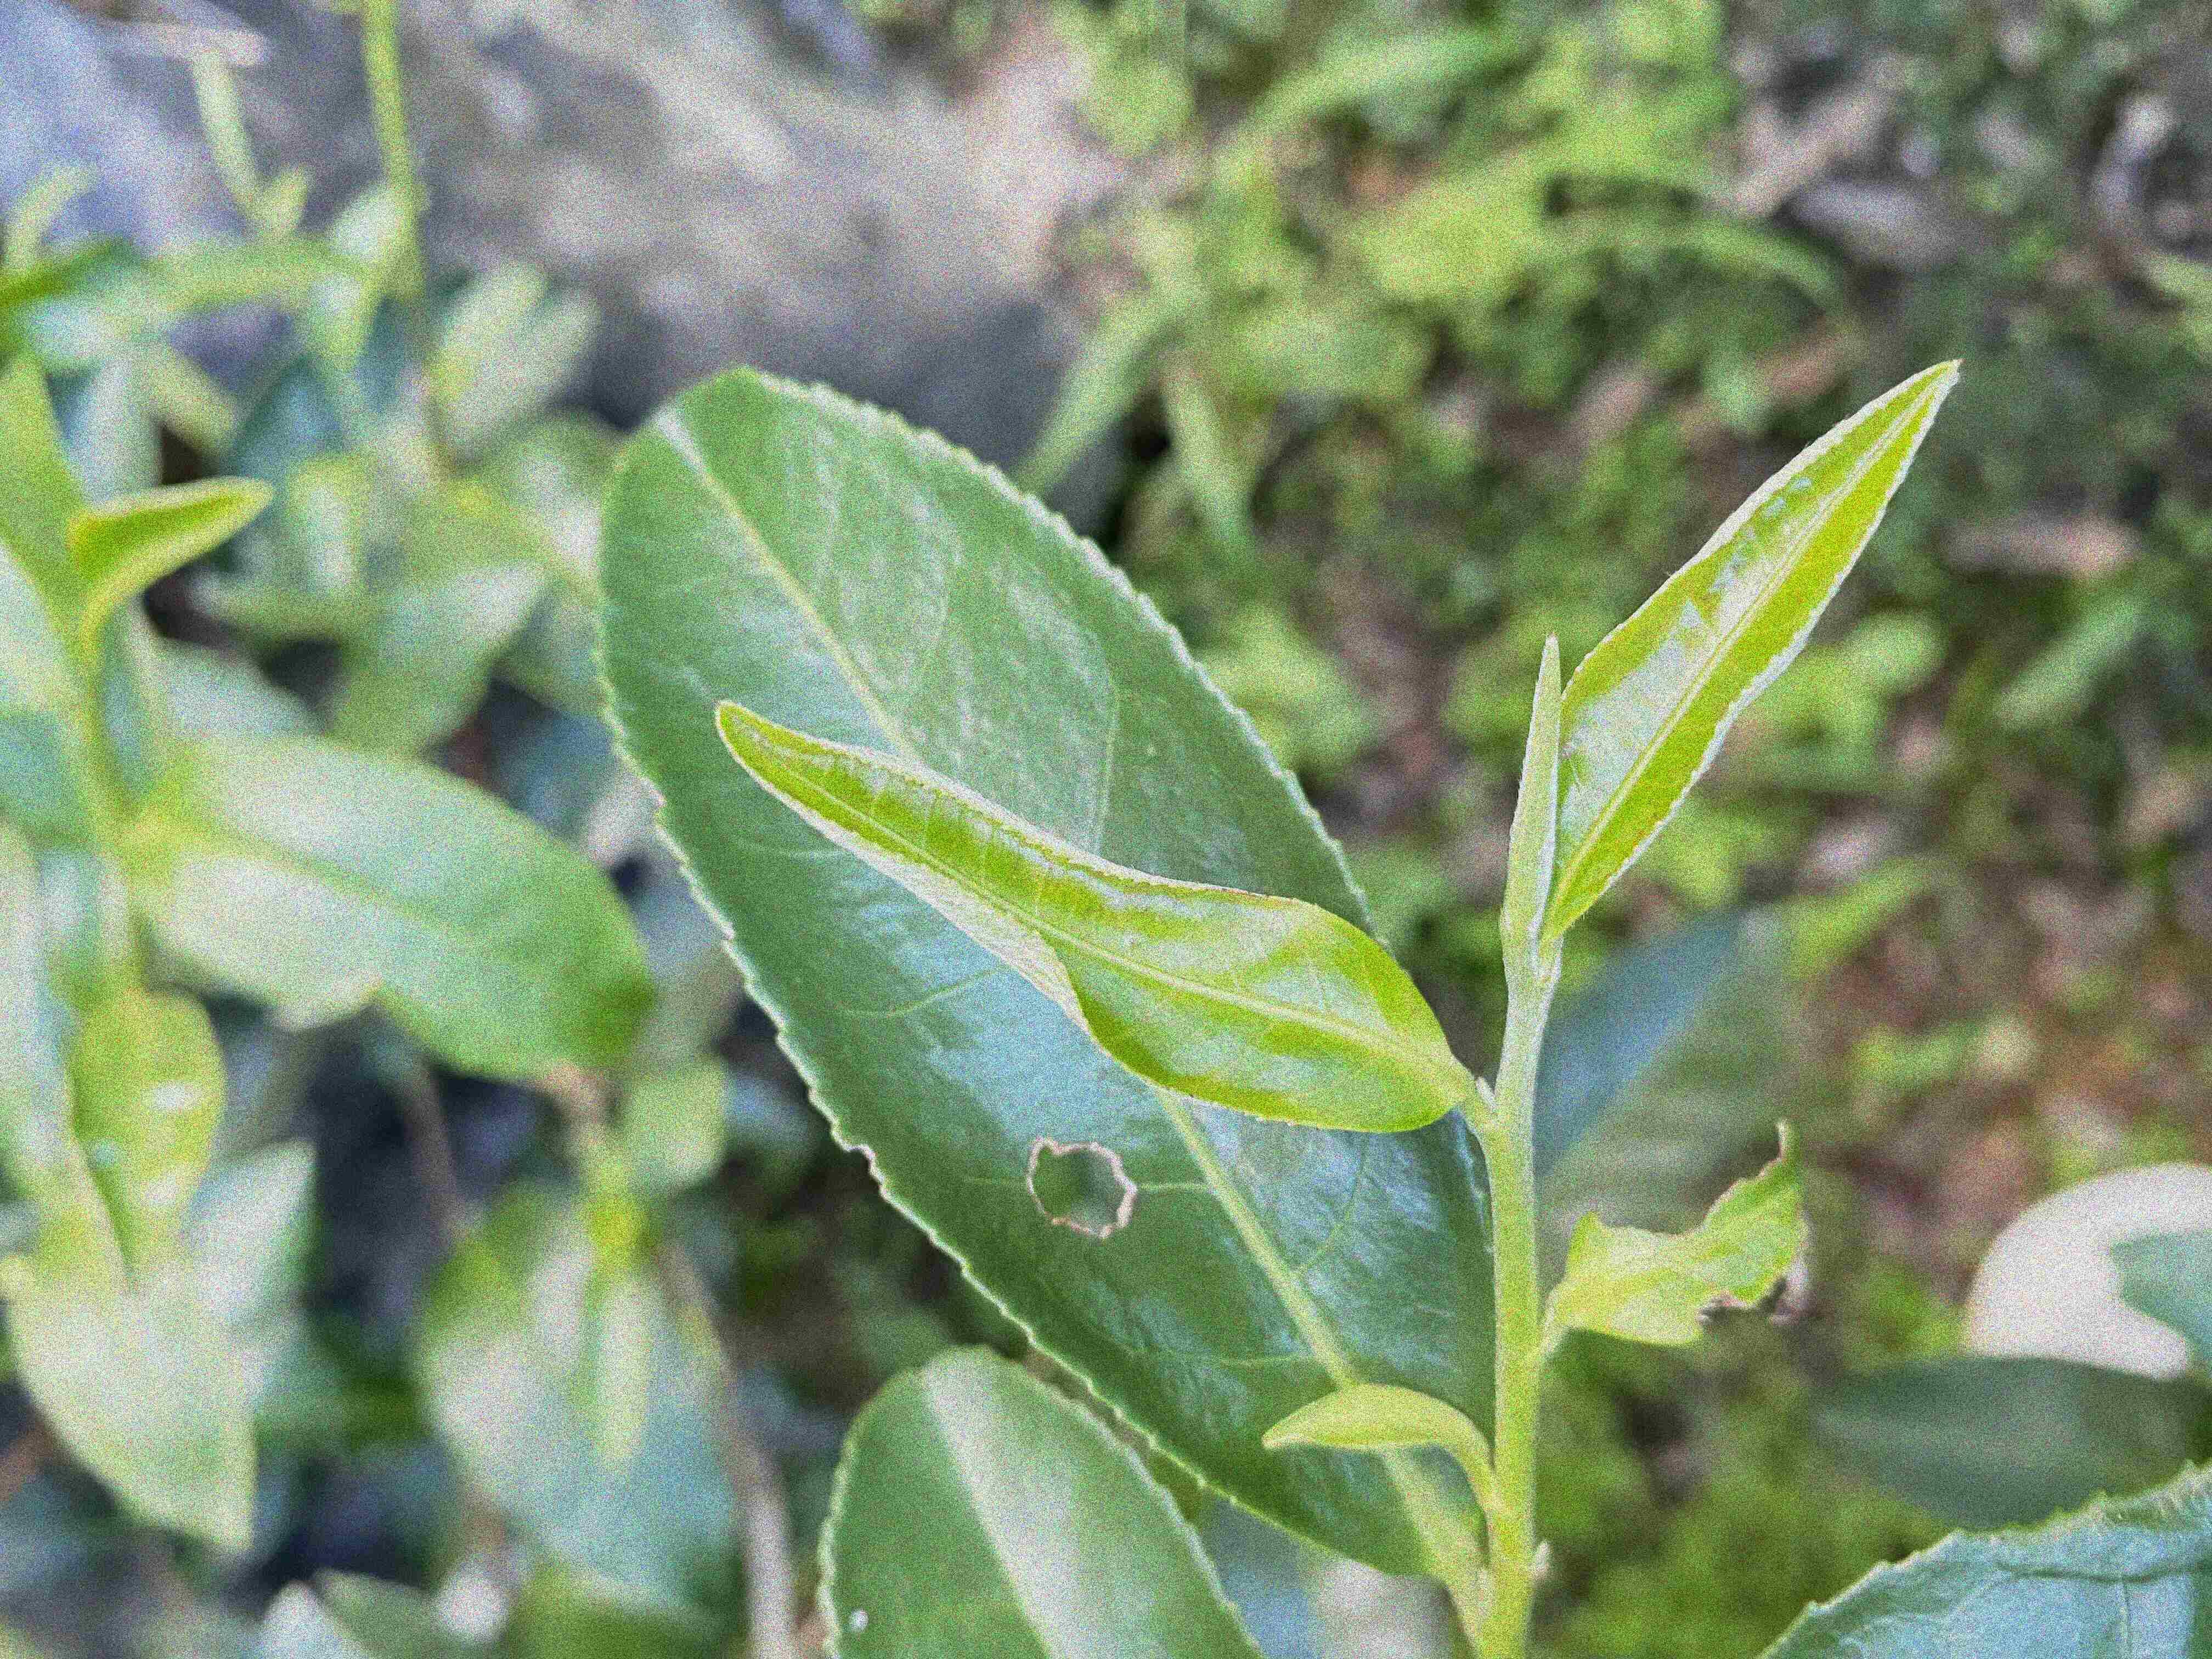chihuo_high: (1554, 1114, 1810, 1349)
chihuo_low: (592, 359, 1493, 1575)
tanju_low: (712, 697, 1460, 1131), (1533, 359, 1961, 931)
